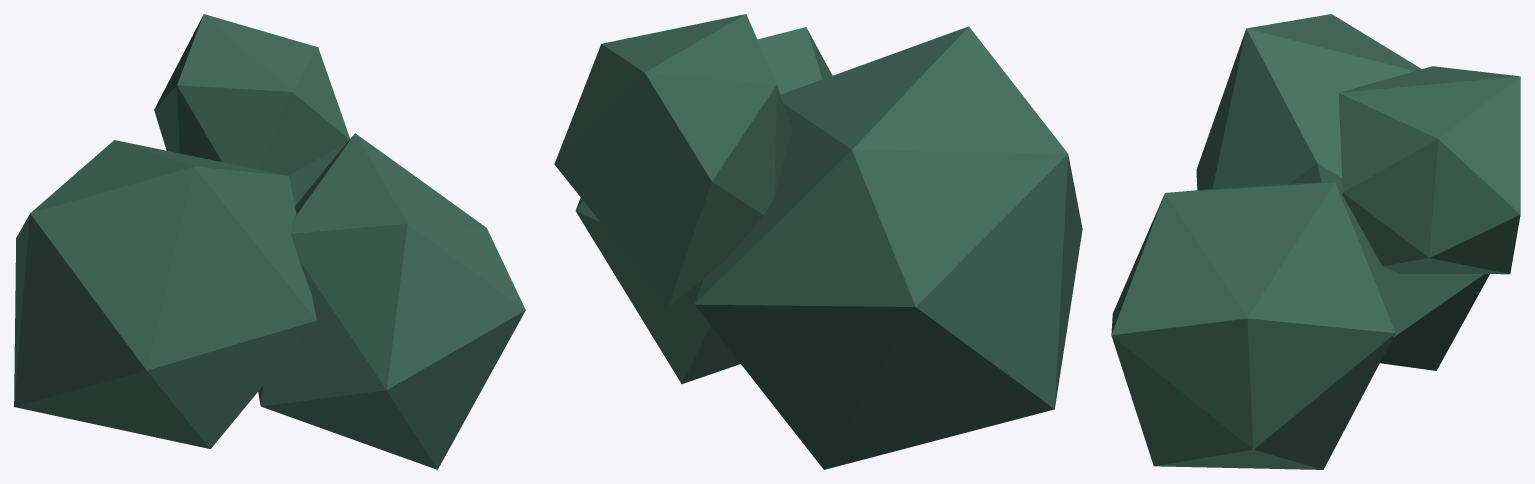
The model's file is stones.glb.
3 renders of one model, left to right at view 1: azimuth 30°, elevation 25°; view 2: azimuth 150°, elevation 25°; view 3: azimuth 270°, elevation 25°, orthographic. The views are drawn at different scales.
Visible parts, largest first — view 1: Pile; view 2: Pile; view 3: Pile.
Part boxes in pixels (<box>): Pile: <box>14,14,525,469</box>; Pile: <box>554,14,1082,469</box>; Pile: <box>1111,14,1520,469</box>.
Size of the model in its own units: 0.9109 by 0.7152 by 0.7338.
